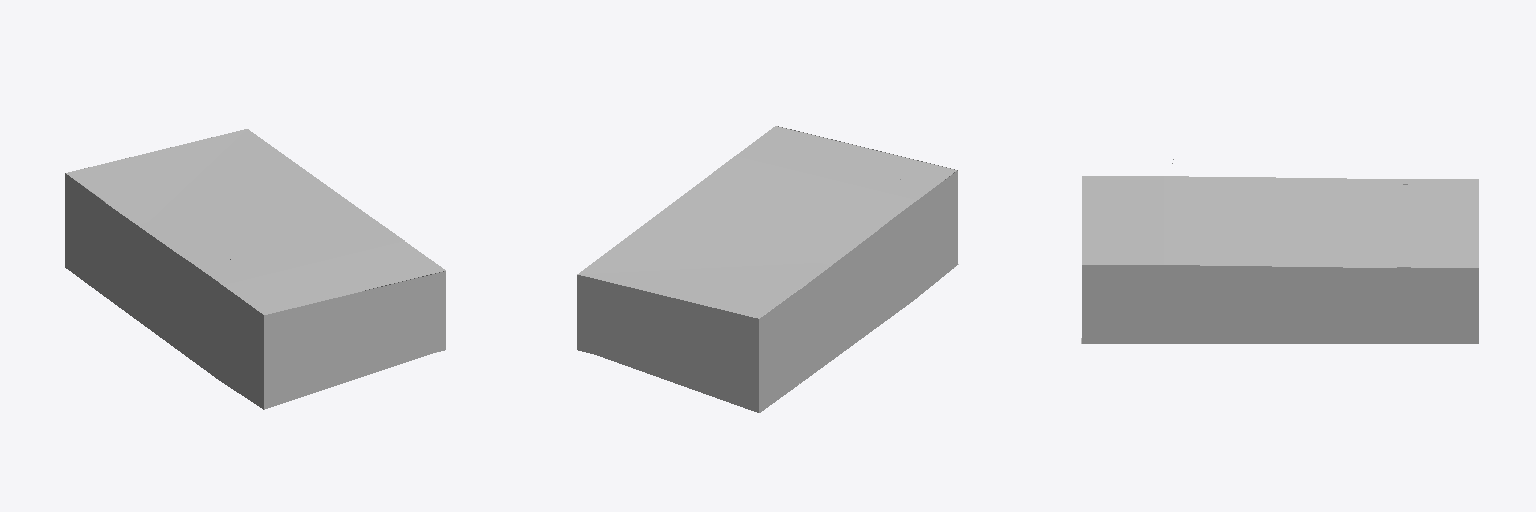
3 views of the same model, side by side, from view 1: azimuth 30°, elevation 25°; view 2: azimuth 150°, elevation 25°; view 3: azimuth 270°, elevation 25° (orthographic).
Parts seen in each view (by area): view 1: Base_SketchUp_ID2; view 2: Base_SketchUp_ID2; view 3: Base_SketchUp_ID2.
Boxes of the visible parts, <box> form: Base_SketchUp_ID2: <box>65,129,445,409</box>; Base_SketchUp_ID2: <box>577,126,958,412</box>; Base_SketchUp_ID2: <box>1081,159,1478,343</box>.
Bounding box in the file's own units: 0.3452 × 0.2257 × 0.6508.